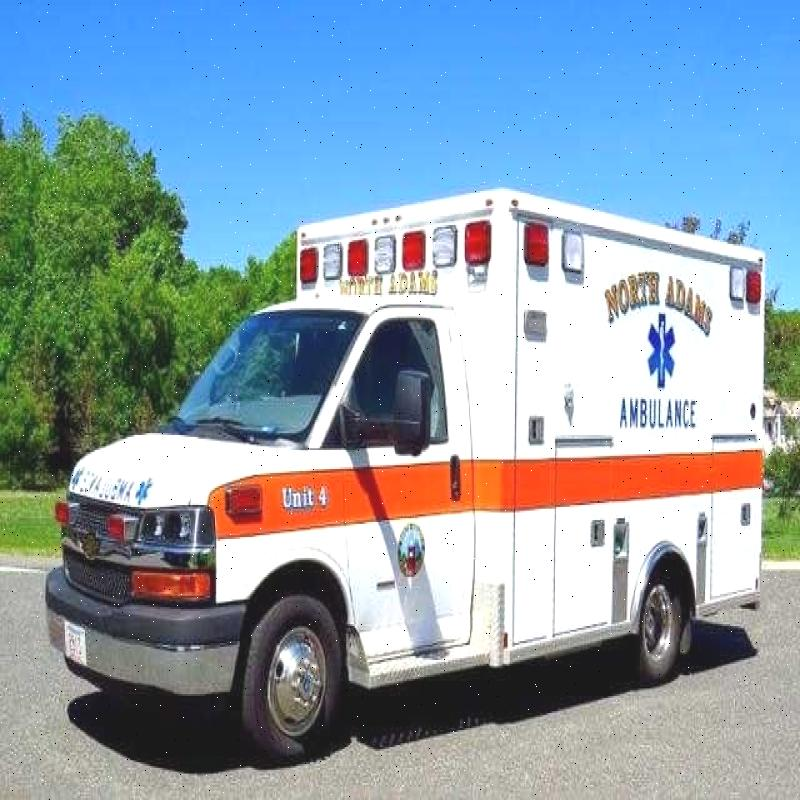AmbulanceSiren: (296, 169, 490, 270), (511, 217, 575, 304), (720, 258, 780, 340)
